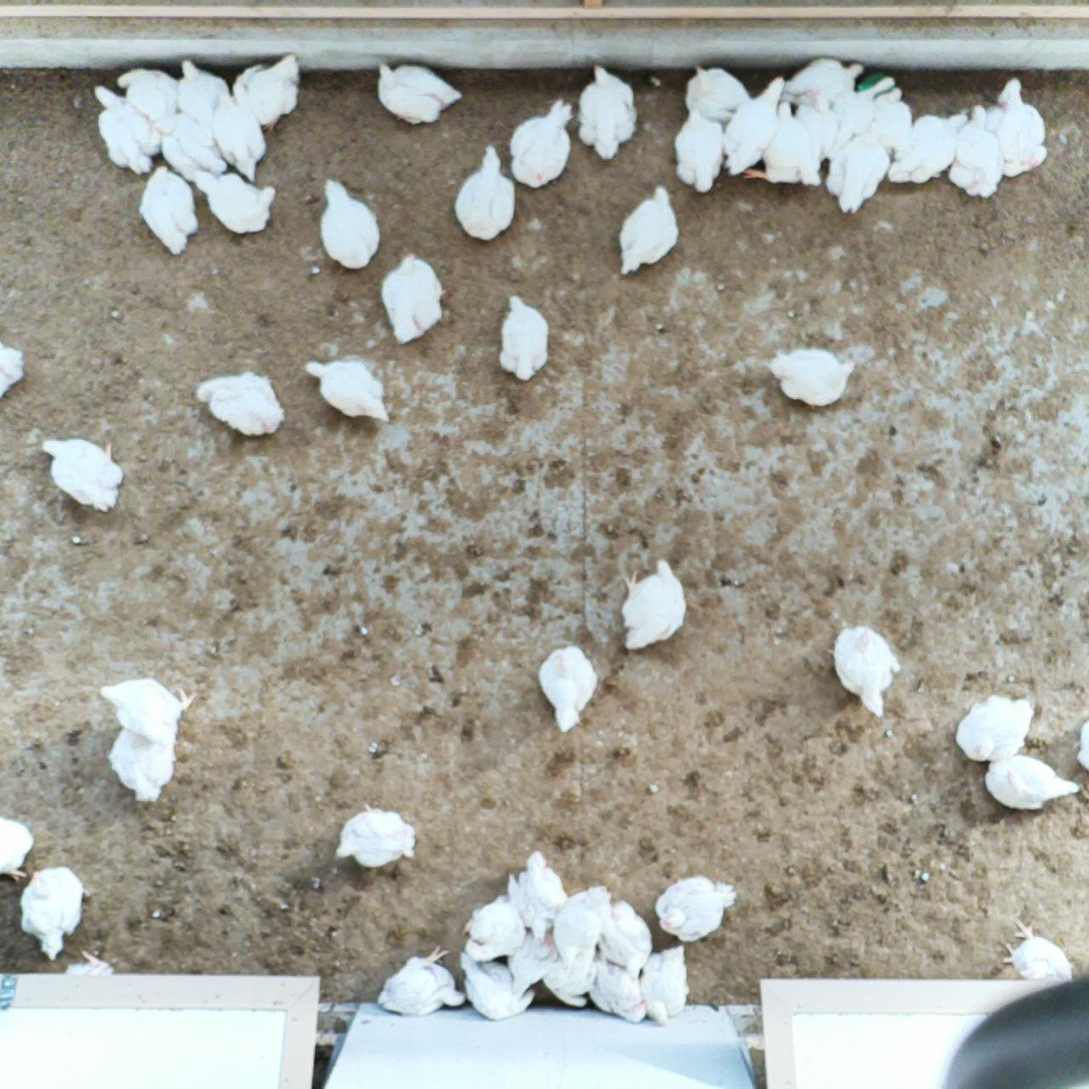chicken: (722, 70, 792, 184), (825, 620, 903, 722), (980, 71, 1050, 184), (745, 96, 830, 188), (615, 553, 690, 657), (103, 716, 186, 808), (375, 941, 466, 1024), (16, 863, 90, 964), (39, 433, 125, 519), (315, 173, 386, 277), (192, 366, 288, 442), (824, 110, 891, 216), (454, 141, 521, 245), (982, 743, 1080, 814), (815, 71, 899, 153), (99, 674, 200, 742), (133, 161, 203, 259), (375, 56, 466, 131), (300, 353, 391, 427), (229, 49, 308, 134), (382, 248, 449, 348), (614, 182, 683, 279), (193, 163, 282, 238), (764, 340, 859, 410), (955, 691, 1043, 765), (505, 849, 571, 946), (92, 80, 161, 172), (333, 798, 421, 869), (510, 94, 574, 191), (453, 949, 537, 1022), (151, 106, 226, 187), (886, 110, 967, 185), (576, 64, 637, 163), (536, 639, 600, 733), (946, 101, 1006, 201), (489, 291, 554, 383), (176, 56, 236, 155), (997, 913, 1078, 985), (668, 102, 730, 196), (212, 94, 273, 182), (657, 873, 739, 938), (683, 60, 755, 134), (846, 84, 915, 161), (115, 63, 183, 138), (773, 55, 864, 111), (460, 887, 526, 962), (595, 897, 653, 978), (640, 939, 692, 1027), (557, 883, 616, 960), (586, 950, 648, 1021), (787, 90, 843, 168), (540, 945, 601, 1008), (510, 923, 563, 992), (0, 815, 40, 884), (64, 950, 119, 978), (0, 341, 26, 397), (1073, 713, 1089, 769)
